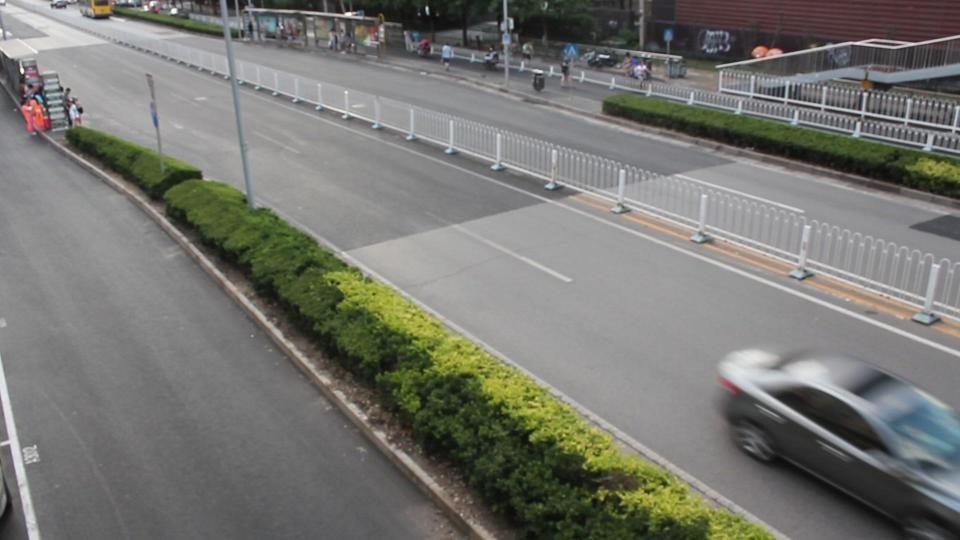car: (713, 346, 959, 533), (80, 0, 113, 19), (51, 0, 72, 9)
